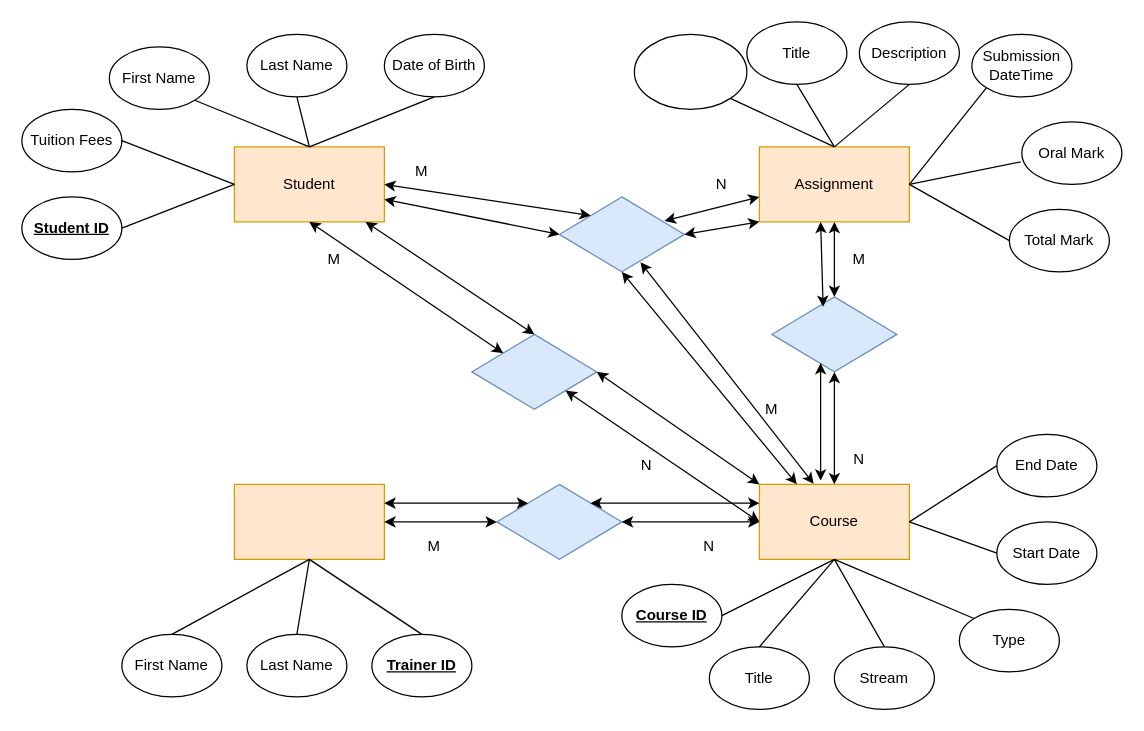
Some shapes in this 1144 by 731 pixel diagram are drawn without their labels. The box of each missing label's shape, as (x1, y1, x2, y2) in pixels:
AssignmentID: (633, 33, 747, 109)
Attends: (471, 333, 597, 409)
Belongs: (771, 296, 897, 372)
Has to Submit: (558, 196, 684, 272)
Teaches: (496, 483, 622, 559)
Trainer: (233, 483, 384, 559)
